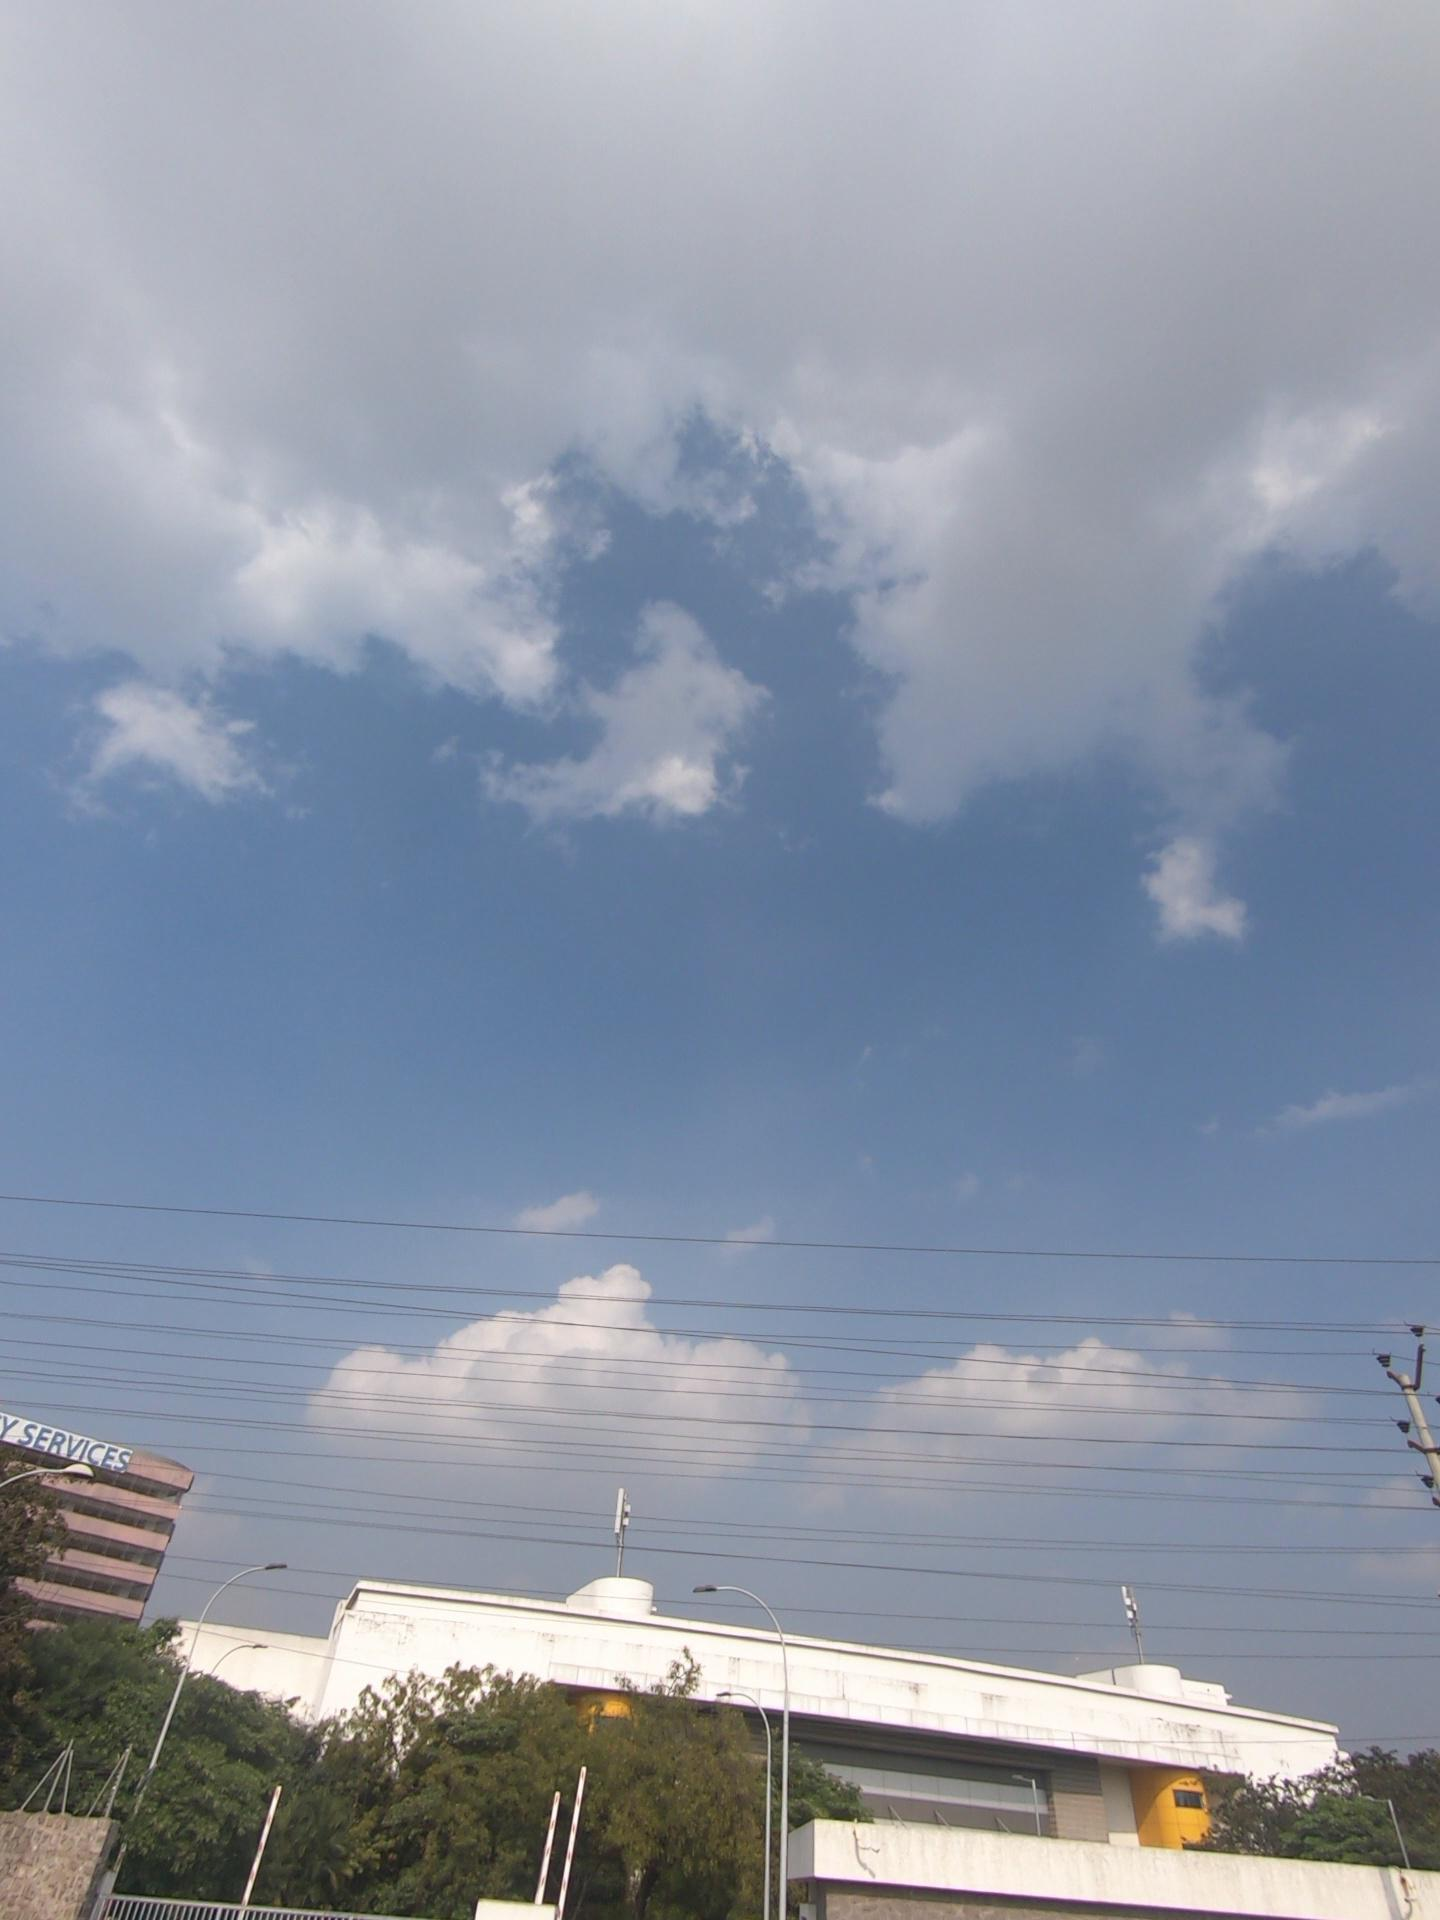off: (1360, 1315, 1440, 1432)
